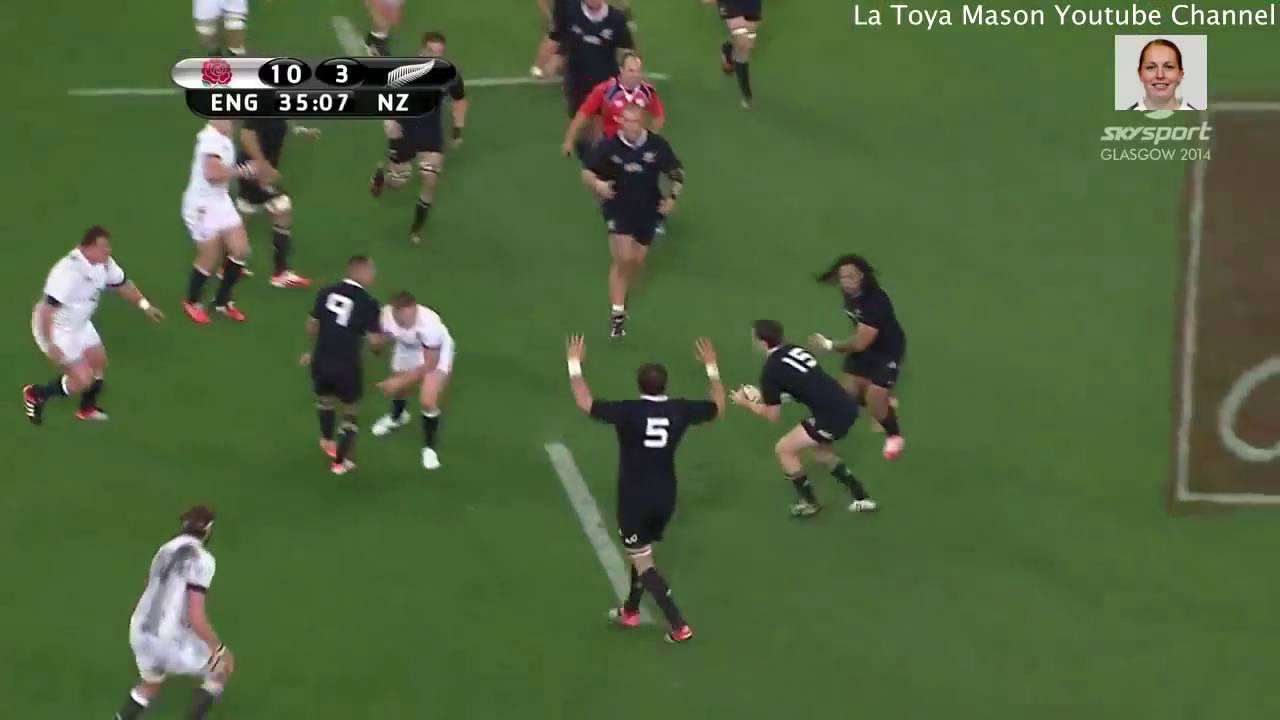player: (564, 328, 721, 656), (720, 319, 881, 522), (21, 224, 165, 435), (575, 106, 694, 345), (113, 503, 240, 720), (815, 252, 913, 472), (375, 29, 474, 244), (303, 246, 386, 480), (371, 284, 459, 472), (177, 120, 256, 327), (231, 120, 317, 293), (532, 1, 639, 108), (554, 59, 685, 139), (702, 1, 777, 110)
